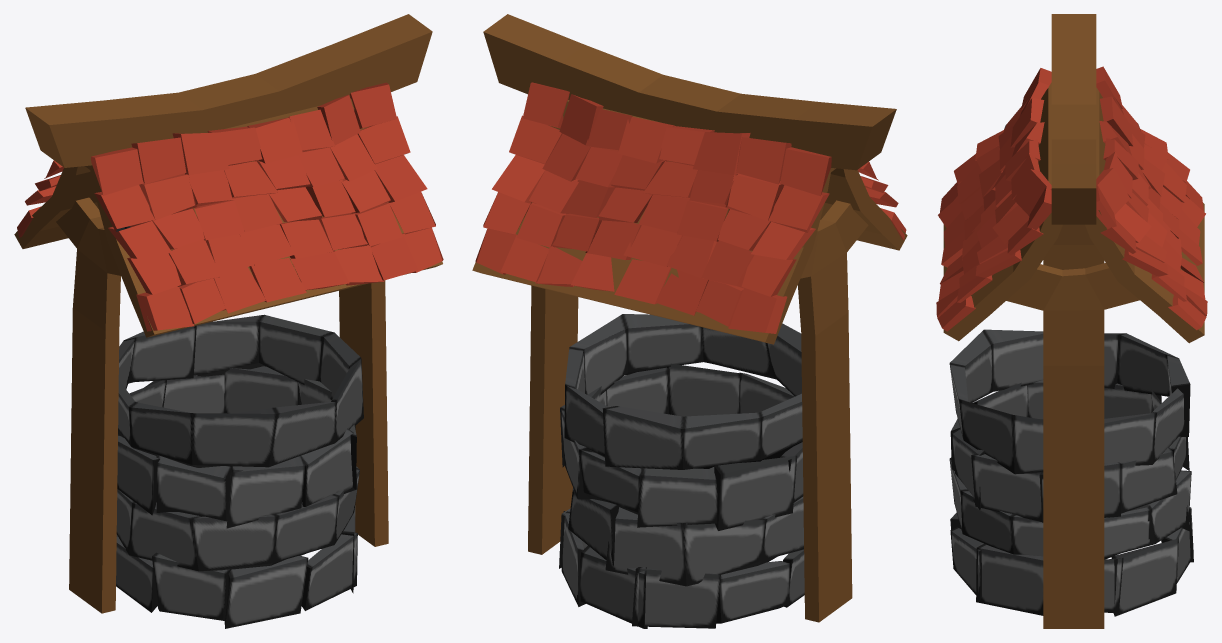
The model's file is Well.fbx.
The picture shows the model from 3 angles, left to right: view 1: azimuth 30°, elevation 25°; view 2: azimuth 150°, elevation 25°; view 3: azimuth 270°, elevation 25°; orthographic projection. The views are drawn at different scales.
Visible parts, largest first — view 1: Plane.031; view 2: Plane.031; view 3: Plane.031.
Part boxes in pixels (box(x1,y1,x2,y2)): Plane.031: box(14, 14, 443, 628); Plane.031: box(472, 14, 907, 628); Plane.031: box(936, 14, 1207, 628).
Size of the model in its own units: 222 by 280 by 146.
